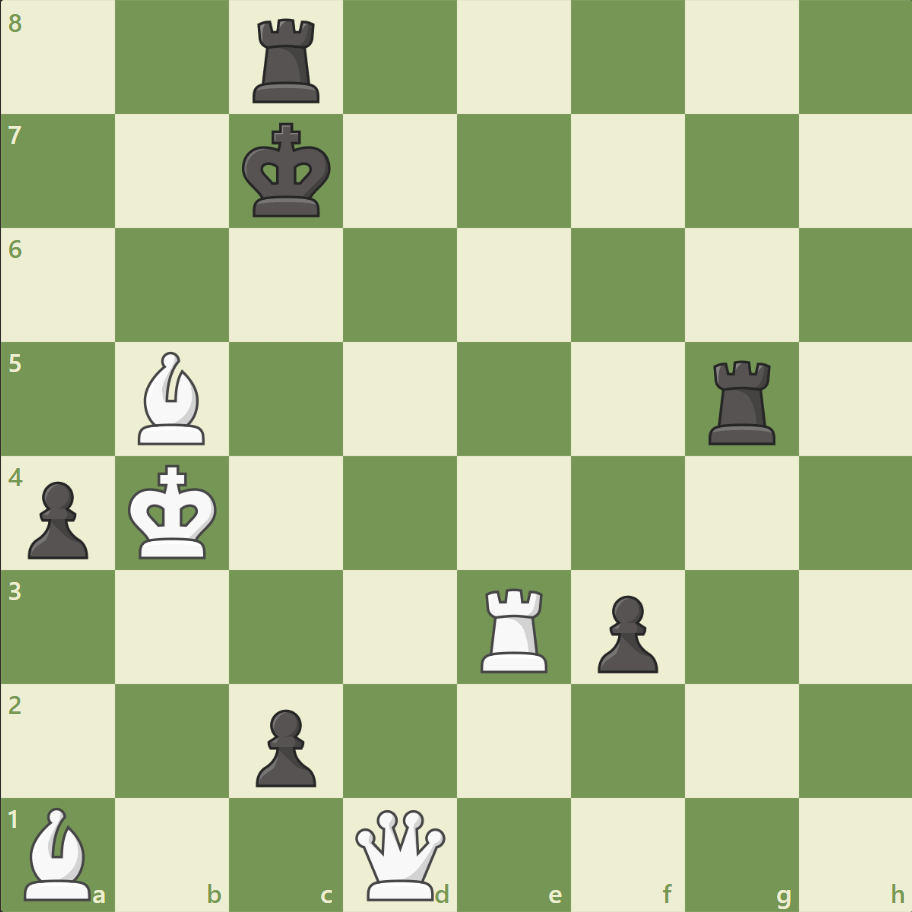B: (17, 801, 101, 904), (131, 347, 215, 449)
K: (124, 458, 224, 566)
Q: (351, 804, 450, 903)
R: (473, 579, 556, 676)
k: (238, 117, 338, 225)
p: (20, 473, 95, 564), (247, 700, 322, 791), (588, 586, 662, 677)
r: (246, 12, 329, 109), (700, 352, 783, 449)
